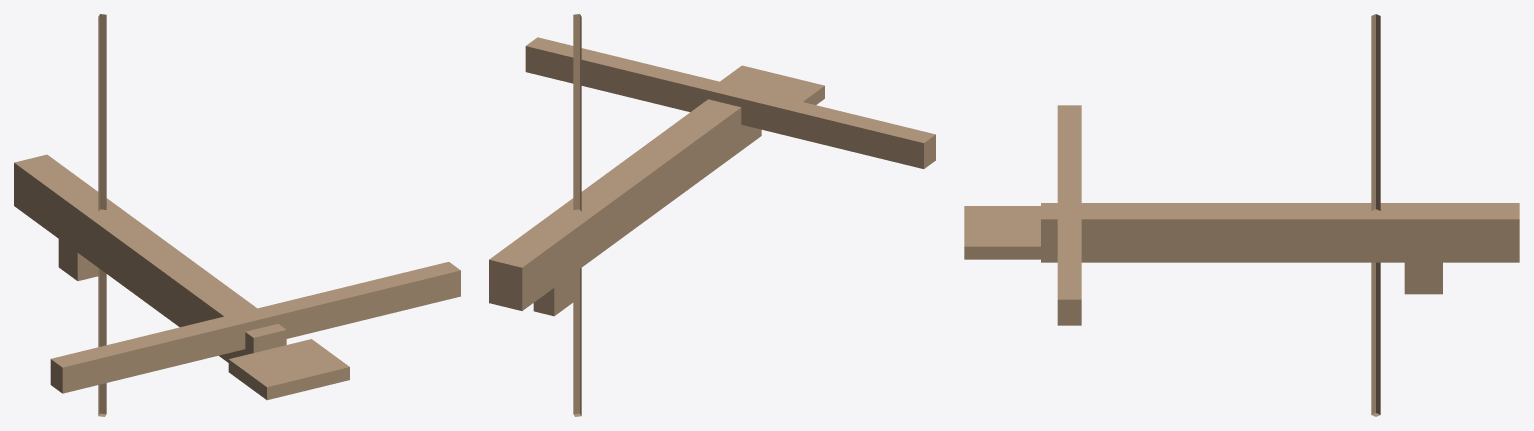
Rendered from weapon_crossbow.glb.
The picture shows the model from 3 angles, left to right: view 1: azimuth 30°, elevation 25°; view 2: azimuth 150°, elevation 25°; view 3: azimuth 270°, elevation 25°; orthographic projection.
Parts seen in each view (by area): view 1: WeaponCrossbow_Node; view 2: WeaponCrossbow_Node; view 3: WeaponCrossbow_Node.
Boxes of the visible parts, box(x1,y1,x2,y2) form: WeaponCrossbow_Node: box(14, 14, 460, 416); WeaponCrossbow_Node: box(489, 14, 935, 416); WeaponCrossbow_Node: box(964, 14, 1519, 416).
Bounding box in the file's own units: 0.48 × 0.46 × 0.58.
